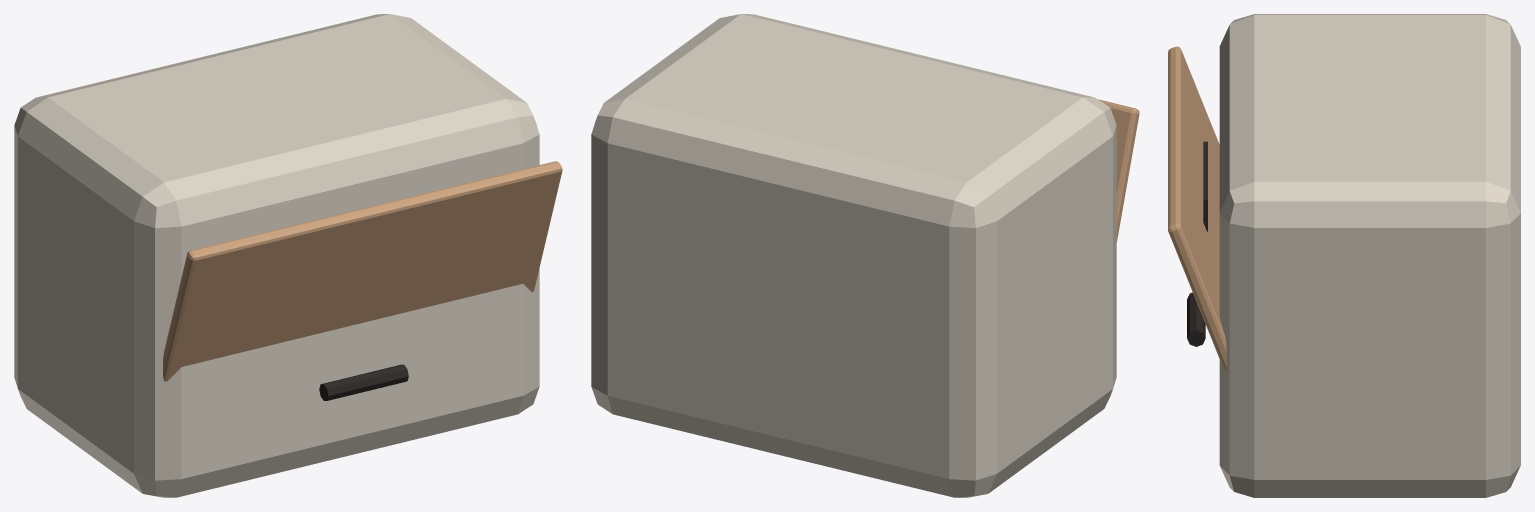
The model's file is hh_bread_bin.glb.
3 renders of one model, left to right at view 1: azimuth 30°, elevation 25°; view 2: azimuth 150°, elevation 25°; view 3: azimuth 270°, elevation 25°, orthographic.
Parts seen in each view (by area): view 1: body, lid, handle; view 2: body, lid; view 3: body, lid, handle, label.
Part boxes in pixels (<box>): body: <box>14,14,539,497</box>; lid: <box>163,161,562,381</box>; handle: <box>319,364,408,400</box>; body: <box>591,14,1116,497</box>; lid: <box>1098,99,1139,242</box>; body: <box>1219,14,1520,497</box>; lid: <box>1168,46,1226,373</box>; handle: <box>1187,292,1205,346</box>; label: <box>1203,141,1207,231</box>.
Size of the model in its own units: 0.4 by 0.3 by 0.3044.
